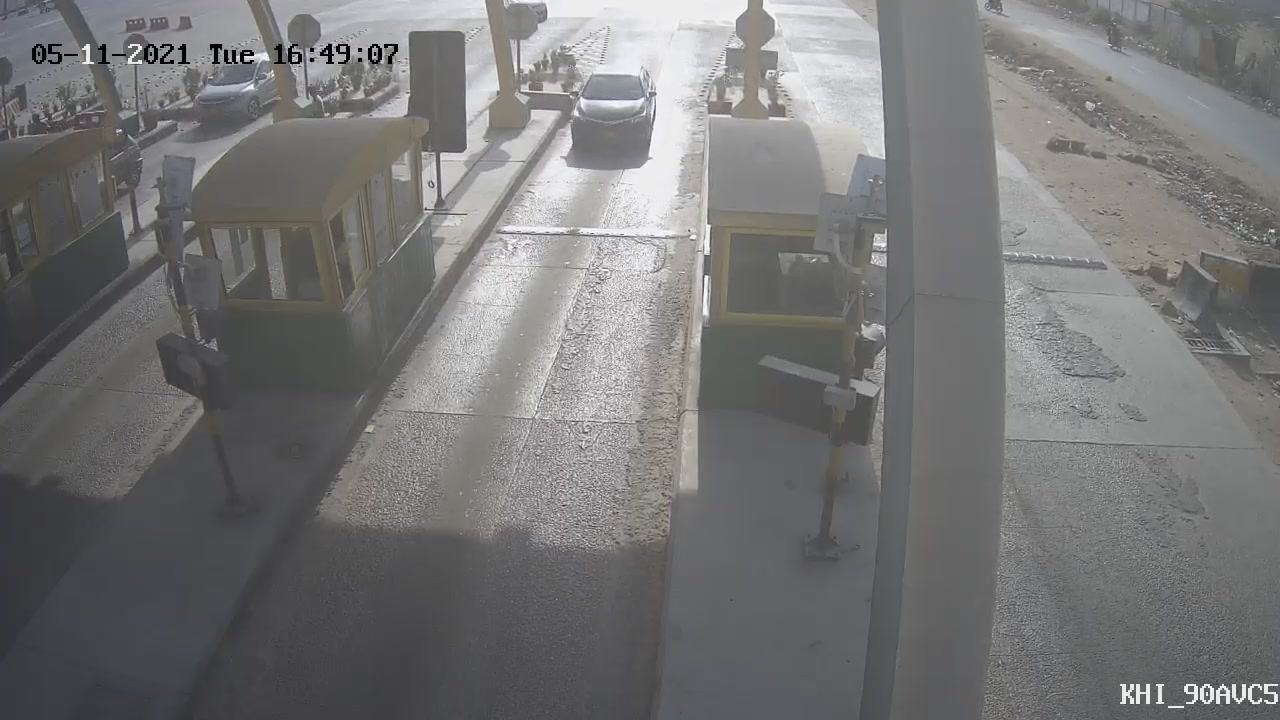F1: (555, 51, 665, 172)
